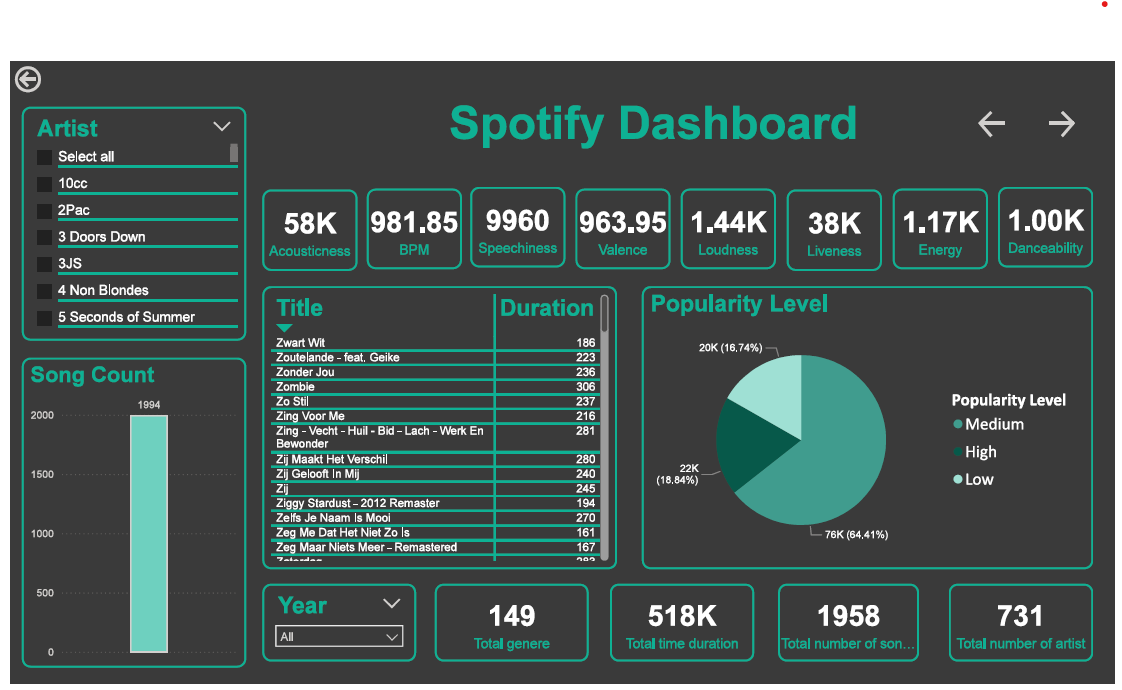

The page's visual inventory and layout, read from the dashboard file:
{"tool":"powerbi","page":{"name":"Dashboard","canvas":[1280,720],"ordinal":1},"visuals":[{"type":"columnChart","fields":{"Y":["Spotify-2000-Prepared.Song Count"]},"box":[13.3,343.3,260,358.3],"z":0},{"type":"tableEx","fields":{"Values":["Spotify-2000-Prepared.Title","Spotify-2000-Prepared.Length (Duration)"]},"box":[291.7,260,411.7,328.3],"z":1000},{"type":"slicer","fields":{"Values":["Spotify-2000-Prepared.Artist"]},"box":[13.3,51.7,260,271.7],"z":2000},{"type":"card","fields":{"Values":["Spotify-2000-Prepared.Total genere"]},"box":[491.7,605,178.3,90],"z":3000},{"type":"pieChart","title":"Popularity Level","fields":{"Category":["Spotify-2000-Prepared.Popularity Level"],"Y":["Spotify-2000-Prepared.Popularity"]},"box":[731.7,260,523.3,328.3],"z":4000},{"type":"slicer","fields":{"Values":["Spotify-2000-Prepared.Year"]},"box":[291.7,605,178.3,90],"z":5000},{"type":"card","fields":{"Values":["Spotify-2000-Prepared.Total time duration"]},"box":[695,605,166.7,90],"z":6000},{"type":"card","fields":{"Values":["Spotify-2000-Prepared.Total number of songs"]},"box":[890,605,163.3,90],"z":7000},{"type":"card","fields":{"Values":["Spotify-2000-Prepared.Total number of artist"]},"box":[1088.3,605,166.7,90],"z":8000},{"type":"card","fields":{"Values":["Spotify-2000-Prepared.Acousticness"]},"box":[291.7,148.3,110,93.3],"z":9000},{"type":"card","fields":{"Values":["Spotify-2000-Prepared.Beats Per Minute (BPM) (Normalized)"]},"box":[413.3,146.7,110,93.3],"z":10000},{"type":"card","fields":{"Values":["Spotify-2000-Prepared.Danceability (Normalized)"]},"box":[1145,145,110,93.3],"z":11000},{"type":"card","fields":{"Values":["Spotify-2000-Prepared.Energy (Normalized)"]},"box":[1023.3,146.7,110,93.3],"z":12000},{"type":"card","fields":{"Values":["Spotify-2000-Prepared.Liveness"]},"box":[900,148.3,110,93.3],"z":13000},{"type":"card","fields":{"Values":["Spotify-2000-Prepared.Loudness (dB) (Normalized)"]},"box":[776.7,146.7,110,93.3],"z":14000},{"type":"card","fields":{"Values":["Spotify-2000-Prepared.Speechiness"]},"box":[533.3,145,110,93.3],"z":15000},{"type":"card","fields":{"Values":["Spotify-2000-Prepared.Valence (Normalized)"]},"box":[655,146.7,110,93.3],"z":16000},{"type":"textbox","box":[438.3,35,615,73.3],"z":17000},{"type":"actionButton","box":[1198.3,51.7,56.7,40],"z":18000},{"type":"actionButton","box":[1118.3,51.7,55,40],"z":19000},{"type":"actionButton","box":[0,0,100,40],"z":20000}]}

Visuals, with their boxes on the page's 1280x720 design canvas (x1, y1, x2, y2). These are canvas units, not pixel positions in the 1122x690 screenshot, which may show the page scaled, cropped or inside an application window:
columnChart - Spotify-2000-Prepared.Song Count: 13,343,273,702
tableEx - Spotify-2000-Prepared.Title x Spotify-2000-Prepared.Length (Duration): 292,260,703,588
slicer - Spotify-2000-Prepared.Artist: 13,52,273,323
card - Spotify-2000-Prepared.Total genere: 492,605,670,695
"Popularity Level" pieChart: 732,260,1255,588
slicer - Spotify-2000-Prepared.Year: 292,605,470,695
card - Spotify-2000-Prepared.Total time duration: 695,605,862,695
card - Spotify-2000-Prepared.Total number of songs: 890,605,1053,695
card - Spotify-2000-Prepared.Total number of artist: 1088,605,1255,695
card - Spotify-2000-Prepared.Acousticness: 292,148,402,242
card - Spotify-2000-Prepared.Beats Per Minute (BPM) (Normalized): 413,147,523,240
card - Spotify-2000-Prepared.Danceability (Normalized): 1145,145,1255,238
card - Spotify-2000-Prepared.Energy (Normalized): 1023,147,1133,240
card - Spotify-2000-Prepared.Liveness: 900,148,1010,242
card - Spotify-2000-Prepared.Loudness (dB) (Normalized): 777,147,887,240
card - Spotify-2000-Prepared.Speechiness: 533,145,643,238
card - Spotify-2000-Prepared.Valence (Normalized): 655,147,765,240
textbox: 438,35,1053,108
actionButton: 1198,52,1255,92
actionButton: 1118,52,1173,92
actionButton: 0,0,100,40
